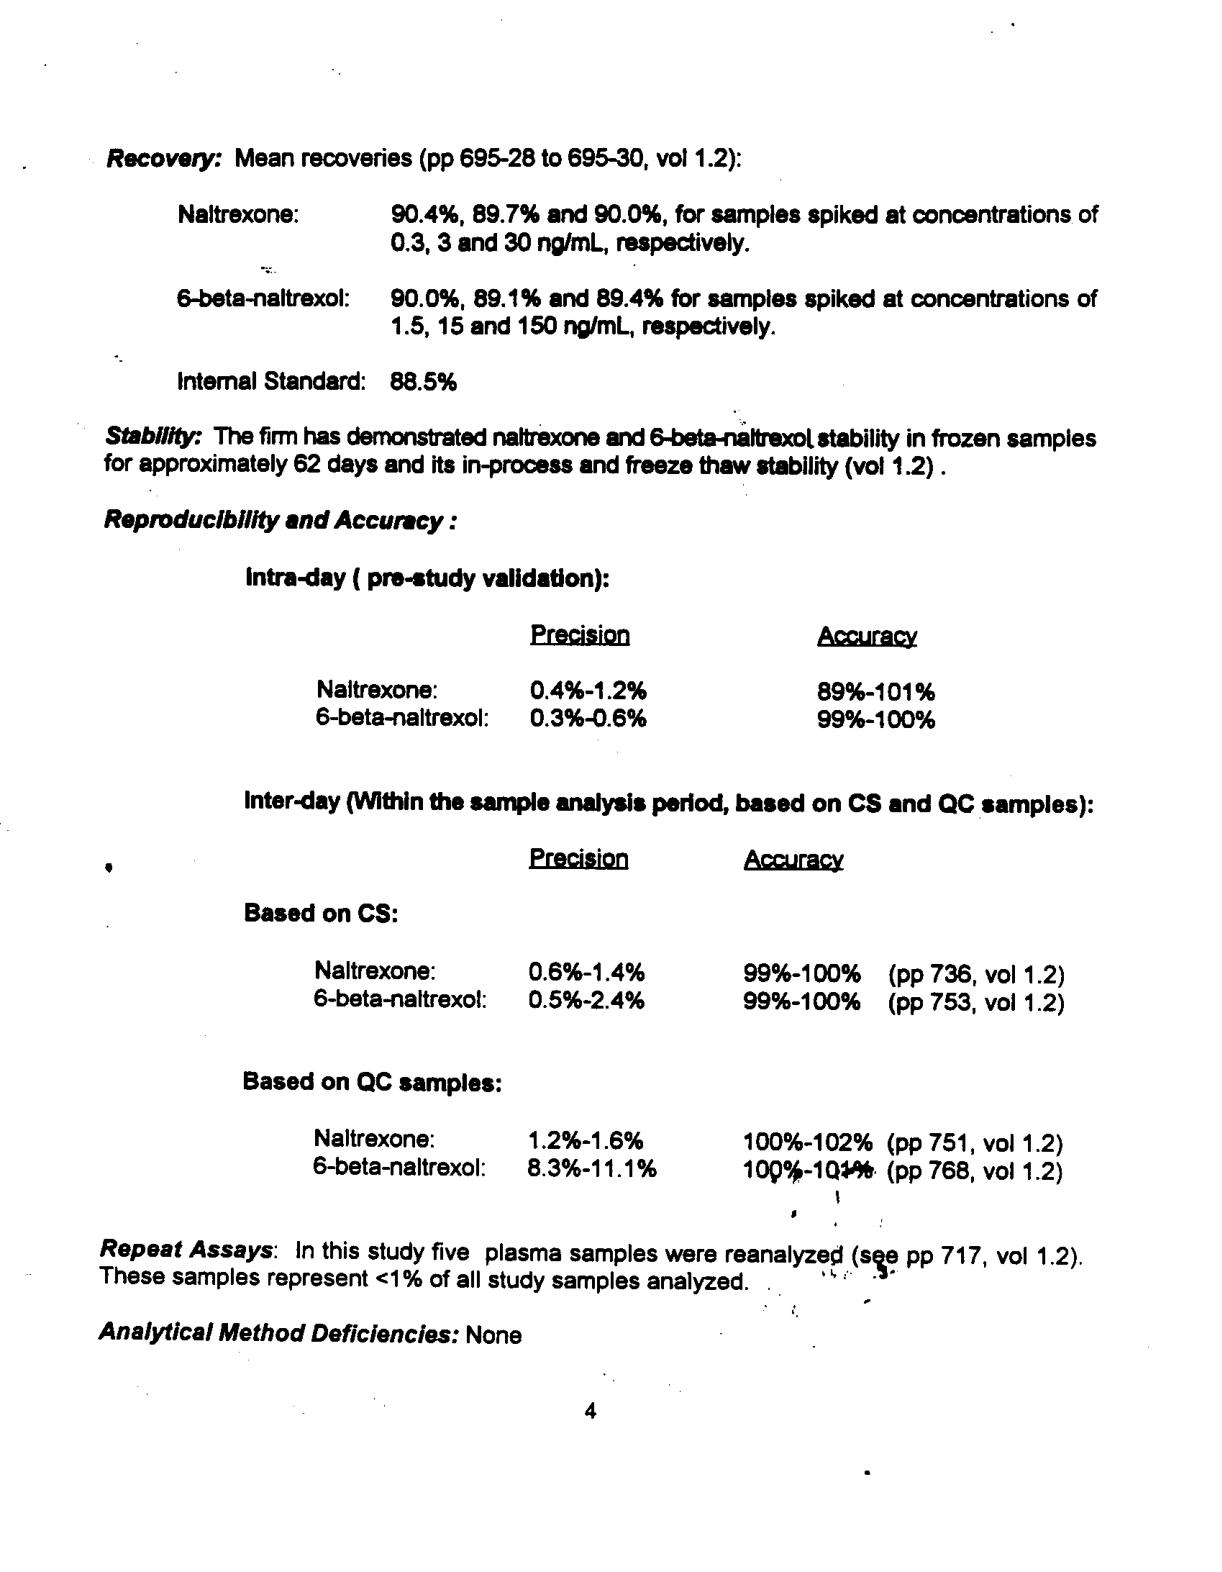nolines: (244, 843, 1066, 1182), (176, 200, 1102, 392), (319, 621, 938, 730)
